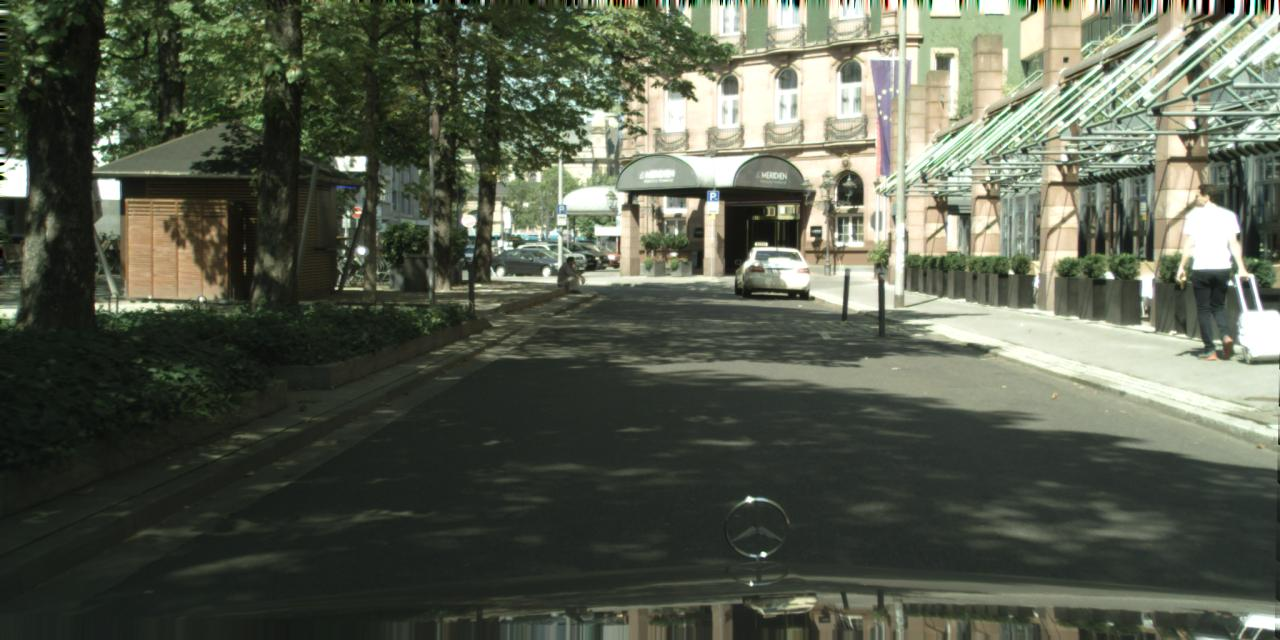ped: (1177, 182, 1249, 360)
